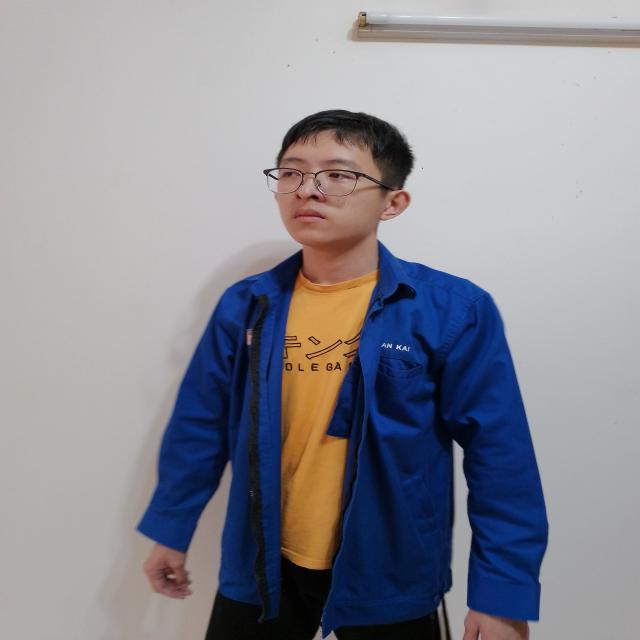person_with_labcoat: (138, 110, 547, 640)
